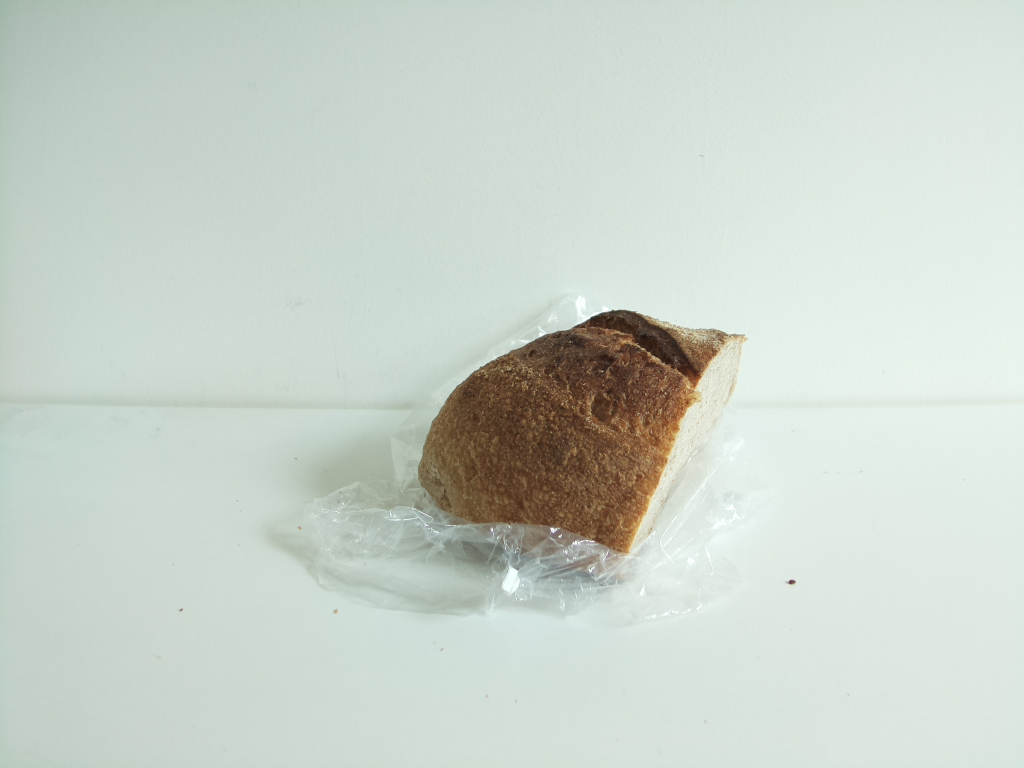bread: (417, 310, 749, 584)
